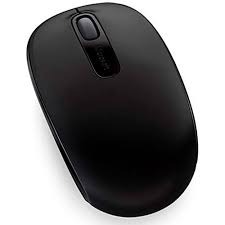mouse: (18, 2, 208, 221)
